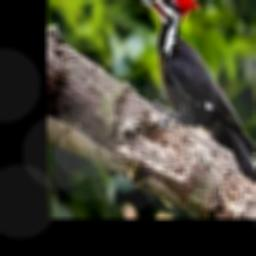Woodpecker: (130, 0, 256, 198)
